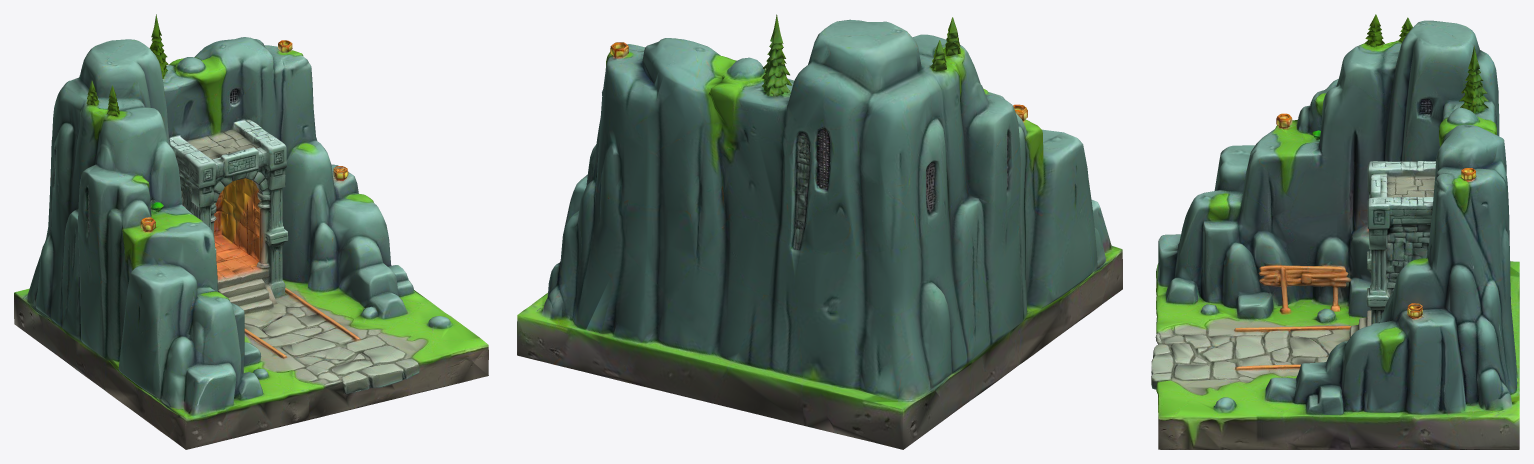
The model's file is townhall.glb.
The picture shows the model from 3 angles, left to right: view 1: azimuth 30°, elevation 25°; view 2: azimuth 150°, elevation 25°; view 3: azimuth 270°, elevation 25°; orthographic projection. The views are drawn at different scales.
Size of the model in its own units: 1.9 by 1.72 by 1.84.
Materials: 1 (1 with a texture image).
